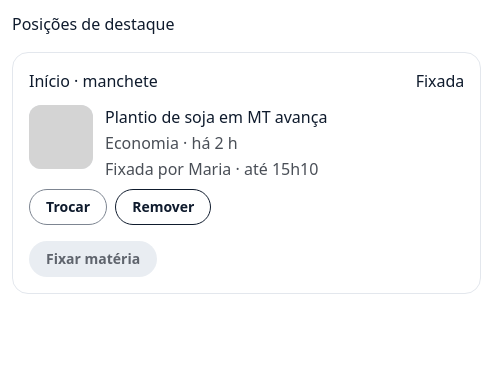
Test: FeaturedBoard · remover › erro do servidor aparece como alerta e a tela não recarrega
Click the button "Remover" at (163, 207), box [115, 189, 212, 225]
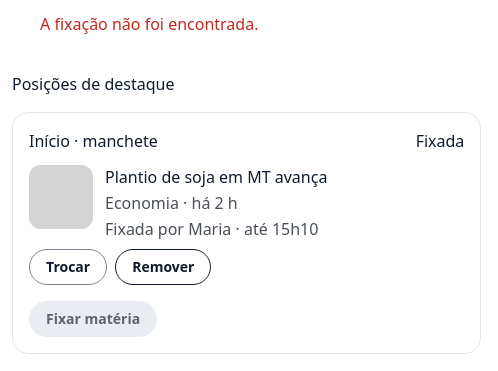
expect the message reads "A fixação não foi encontrada.": met, box [40, 13, 258, 35]
